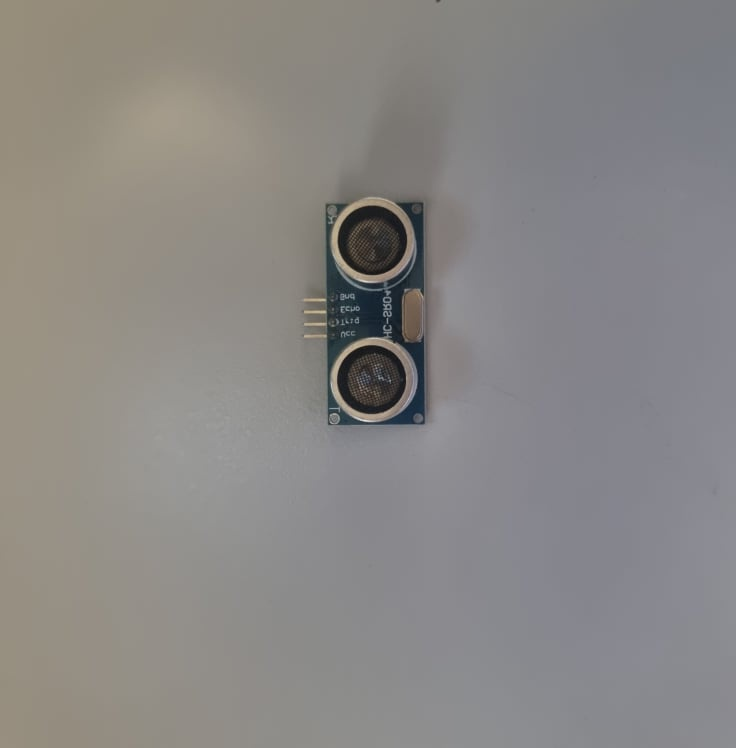SENSOR: (323, 200, 429, 429)
